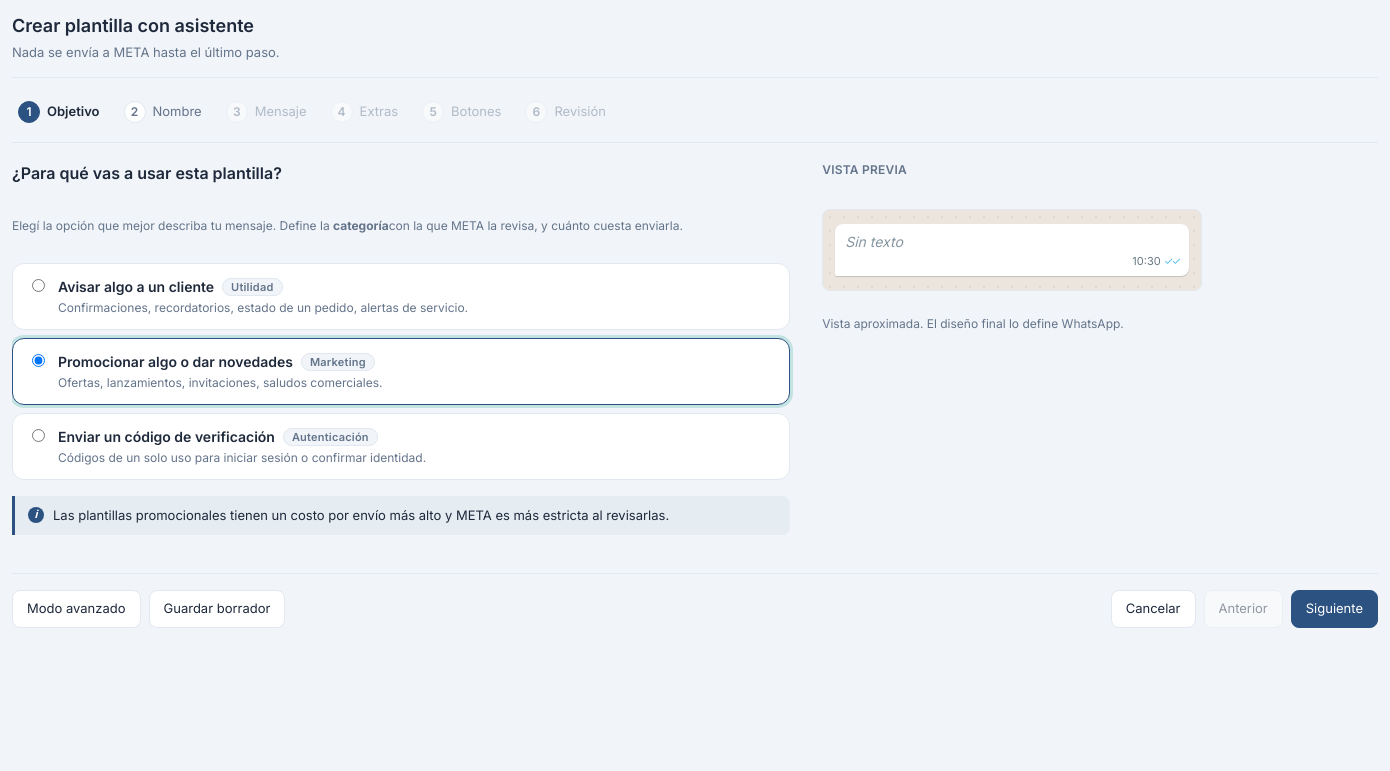
Test: TemplateEditor › guarda un borrador al pasar al modo avanzado
What coordinates should you click on to do the following:
click the button "Modo avanzado"
I would click on:
 (76, 609)
Its box is [12,590,140,628].
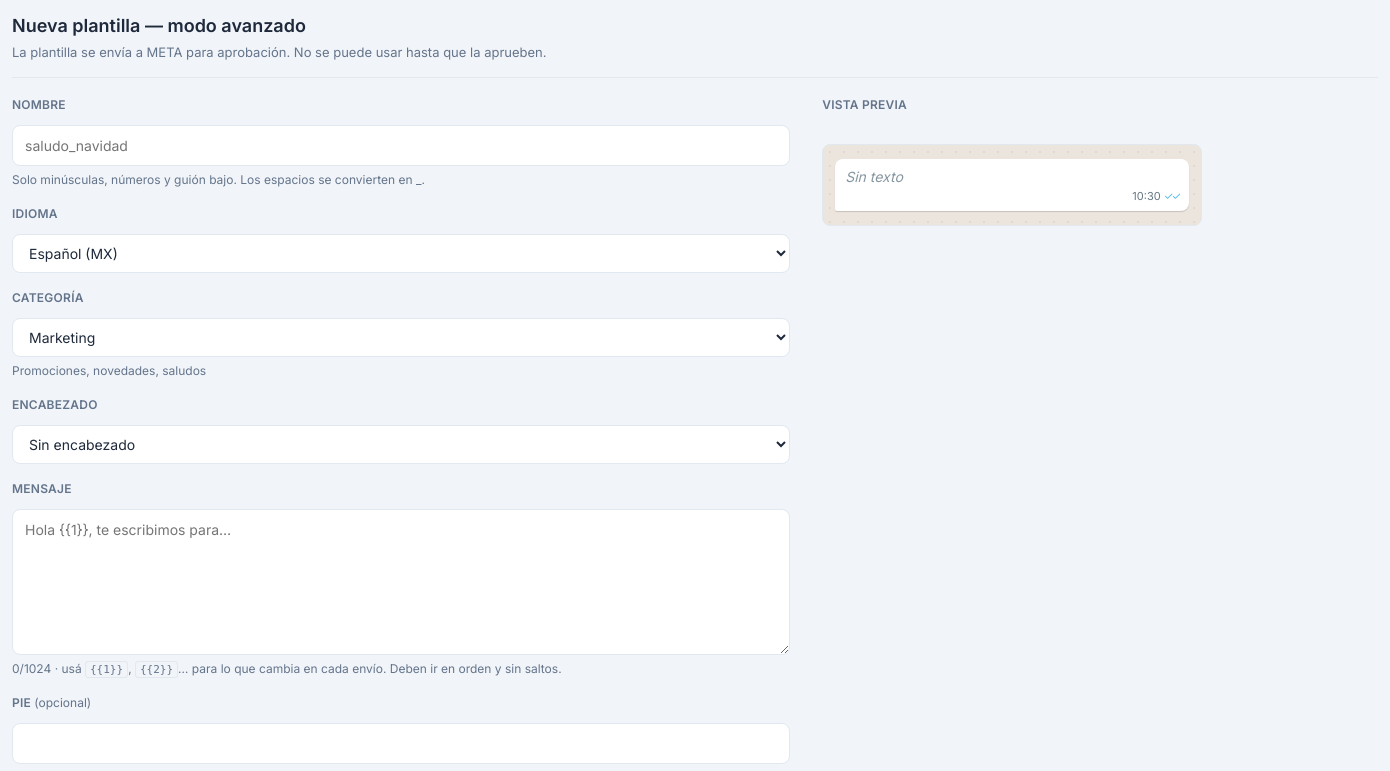
Expected: the heading "Nueva plantilla — modo avanzado" is shown, [12,15,306,36]
